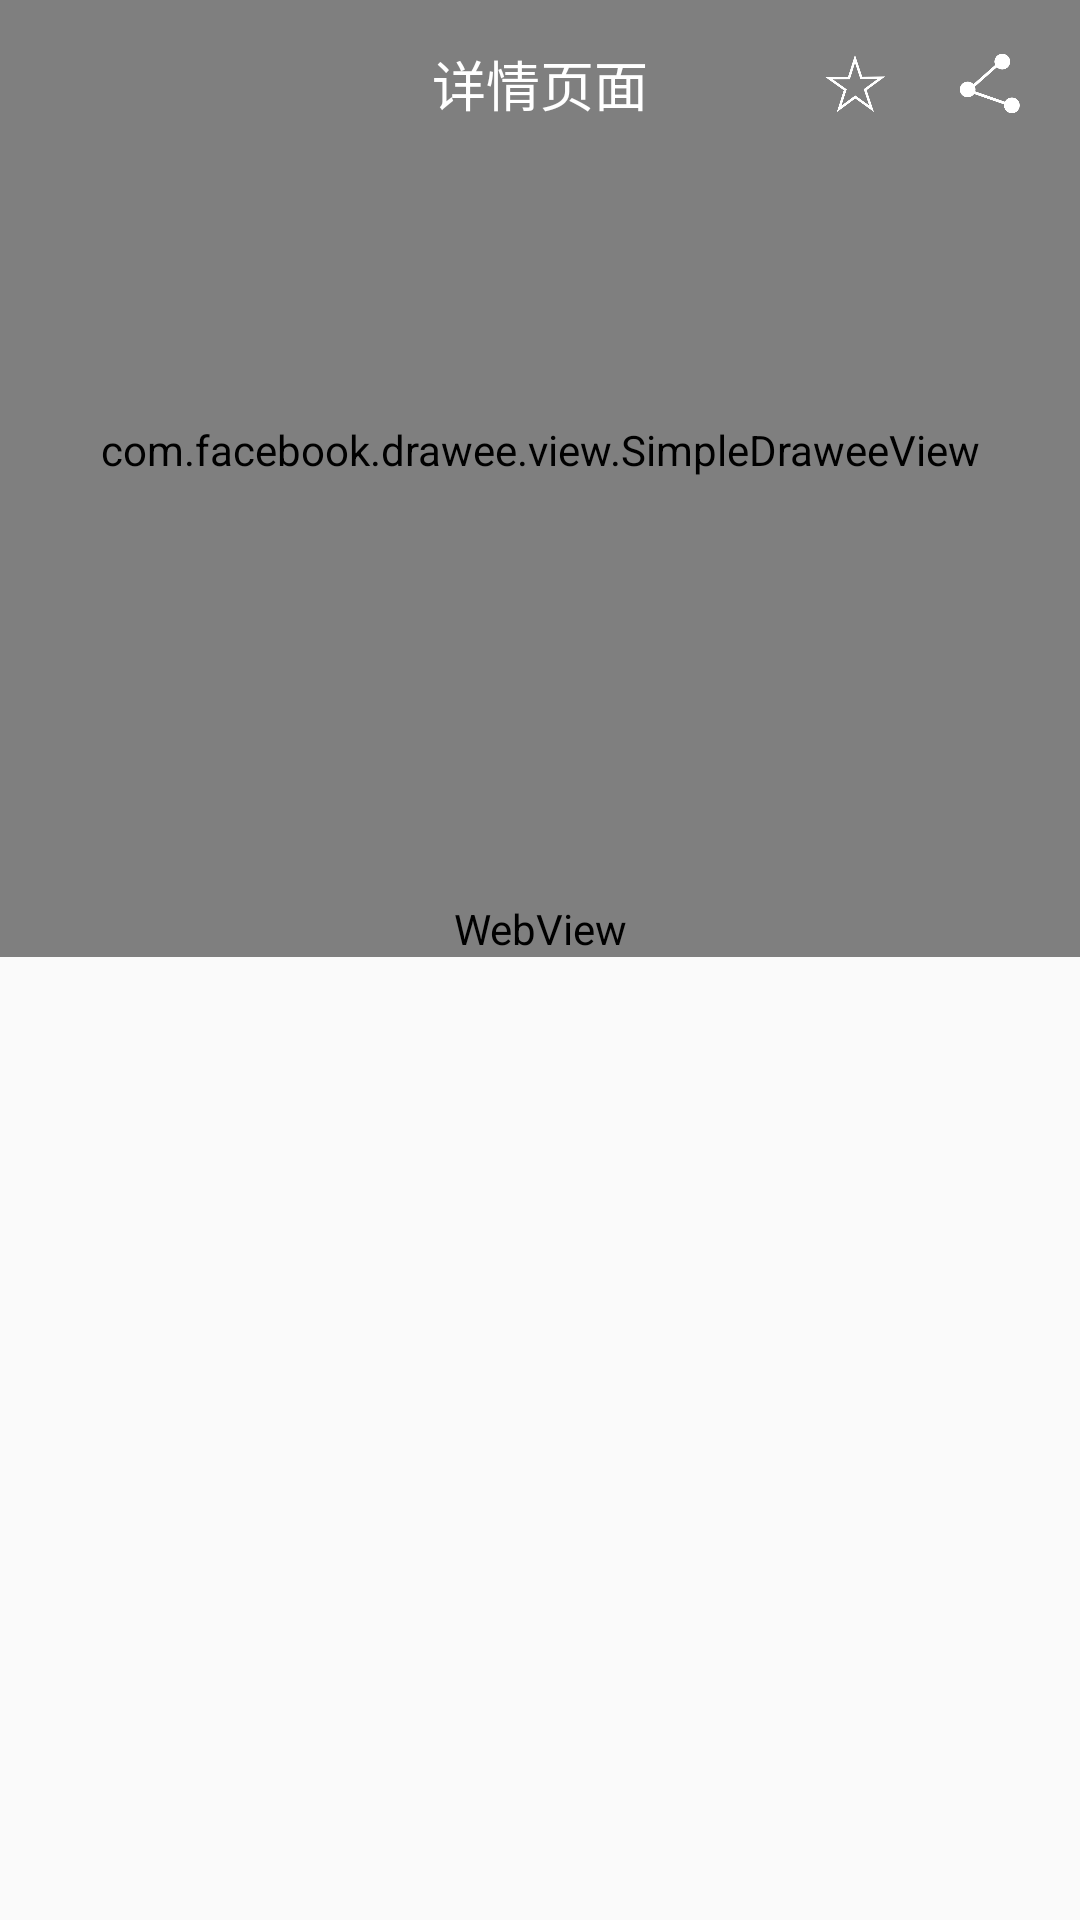

Where icons sit on this 1080w x 1920h app screen, as (x1, y1, x2, y2):
share: (960, 54, 1020, 113)
stroke collect: (826, 56, 885, 112)
